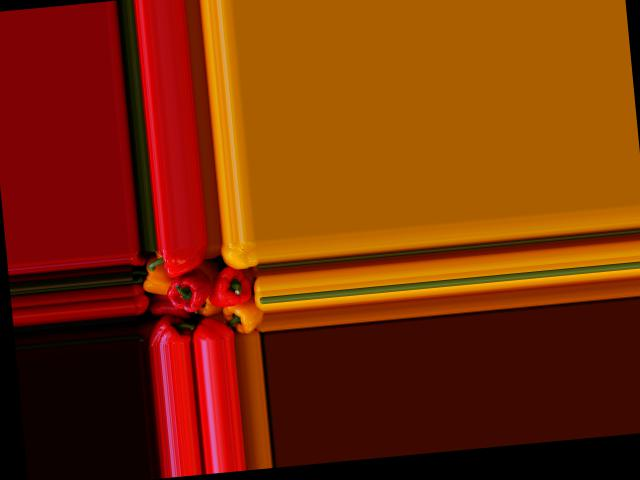bell_pepper: (225, 297, 263, 332)
